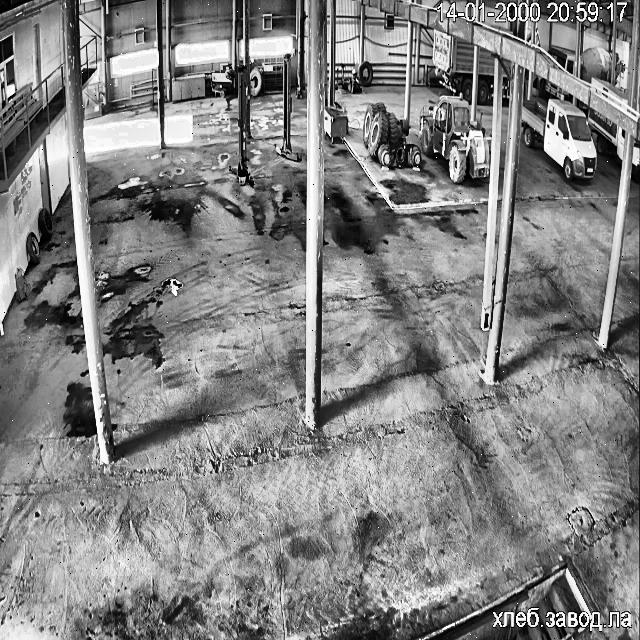car lift: (229, 66, 252, 185), (275, 52, 300, 161)
fire extinguisher: (16, 268, 24, 300)
tractor: (420, 96, 489, 181), (364, 102, 420, 165)
truck: (522, 100, 596, 180), (432, 28, 472, 100), (588, 108, 624, 157), (580, 46, 612, 82), (477, 49, 494, 102), (592, 78, 628, 102), (537, 77, 572, 99), (548, 46, 574, 73), (632, 140, 640, 179), (500, 77, 508, 97), (504, 60, 510, 76), (618, 68, 618, 70)
